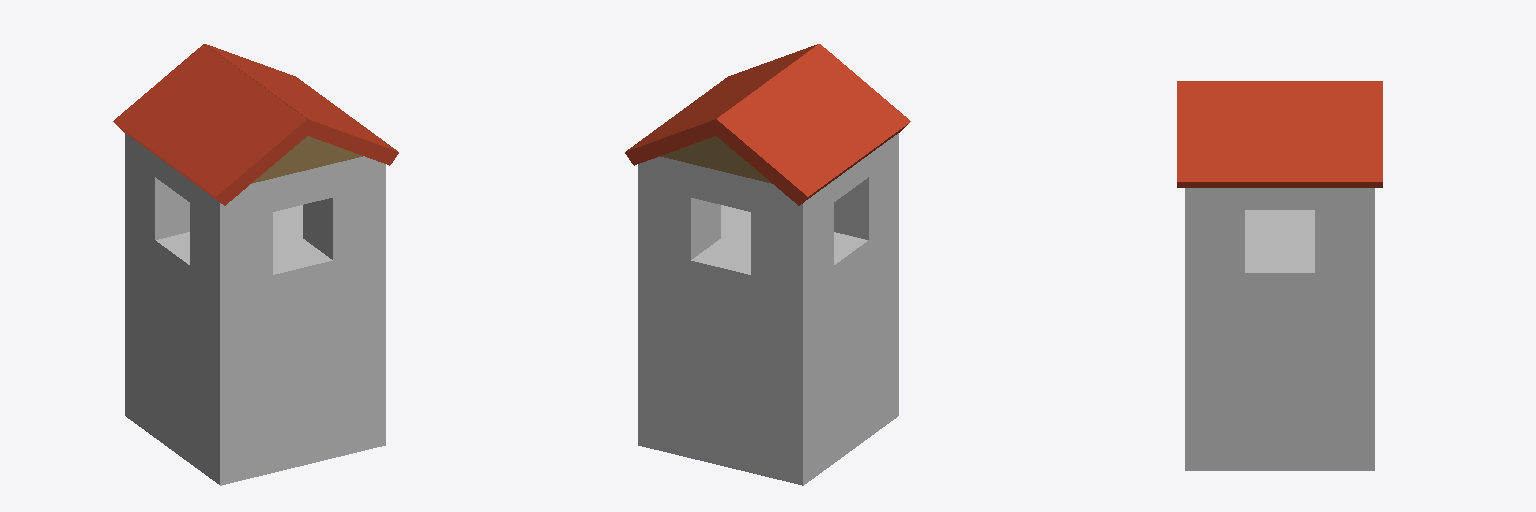
Rendered from house1.obj.
3 views of the same model, side by side, from view 1: azimuth 30°, elevation 25°; view 2: azimuth 150°, elevation 25°; view 3: azimuth 270°, elevation 25° (orthographic).
Parts seen in each view (by area): view 1: Cube, Cube.004, Cube.001_Cube.005; view 2: Cube, Cube.004, Cube.001_Cube.005; view 3: Cube, Cube.004.
Part boxes in pixels (bbox=[...]): Cube: bbox=[125, 133, 385, 485]; Cube.004: bbox=[113, 44, 398, 205]; Cube.001_Cube.005: bbox=[253, 136, 362, 182]; Cube: bbox=[638, 133, 898, 485]; Cube.004: bbox=[625, 44, 910, 205]; Cube.001_Cube.005: bbox=[660, 136, 771, 183]; Cube: bbox=[1185, 188, 1374, 470]; Cube.004: bbox=[1177, 81, 1382, 187].
Bounding box in the file's own units: 0.4965 × 0.903 × 0.4842.